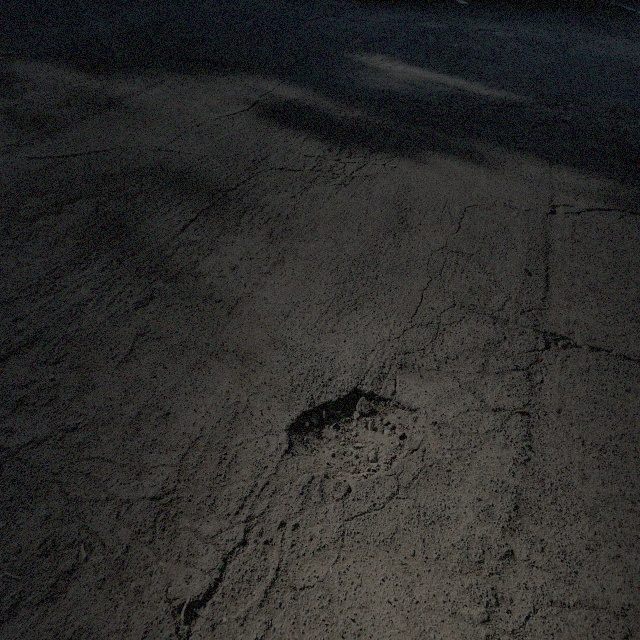pothole: (284, 378, 421, 492)
